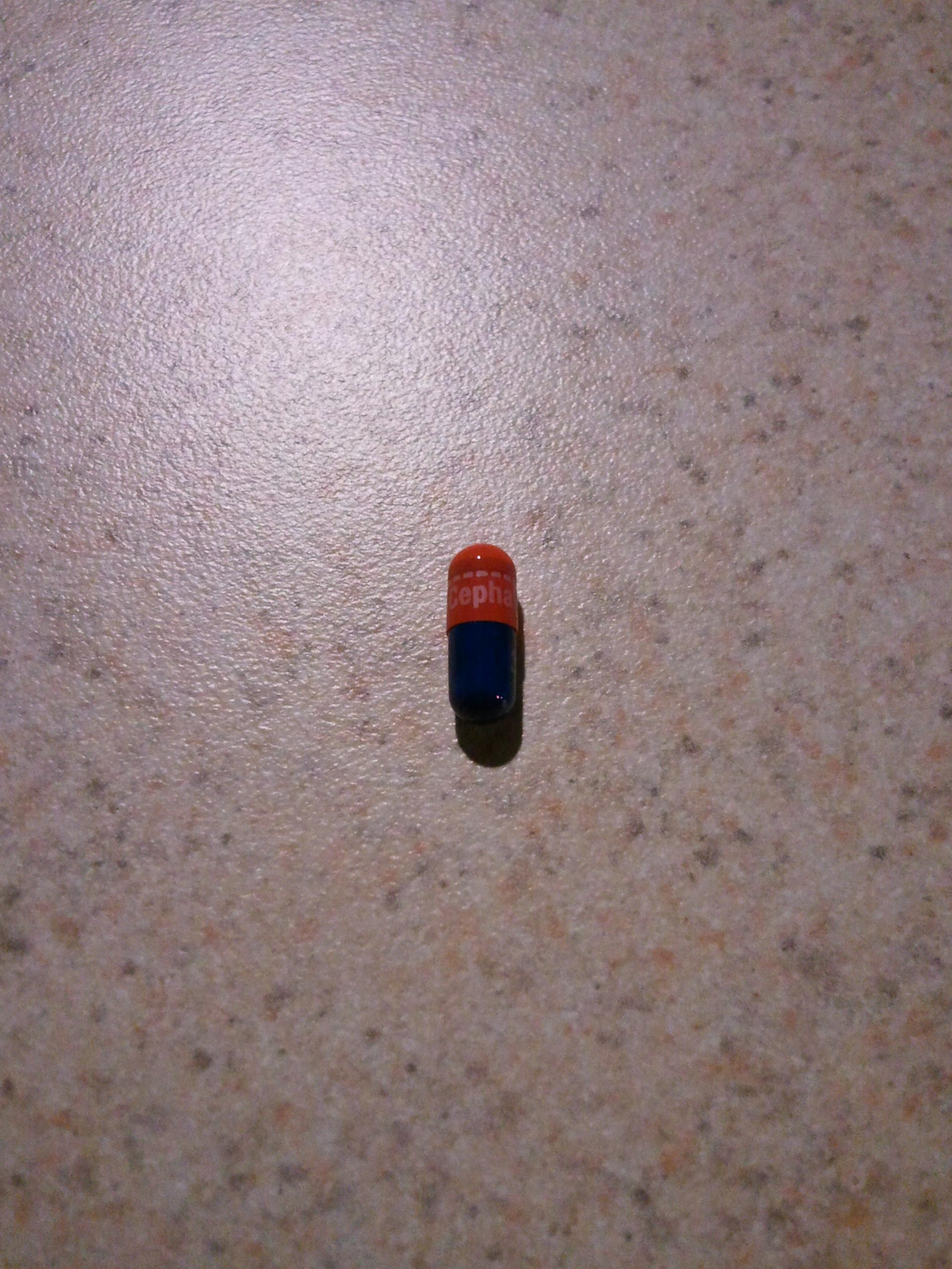Pill: (434, 533, 536, 739)
